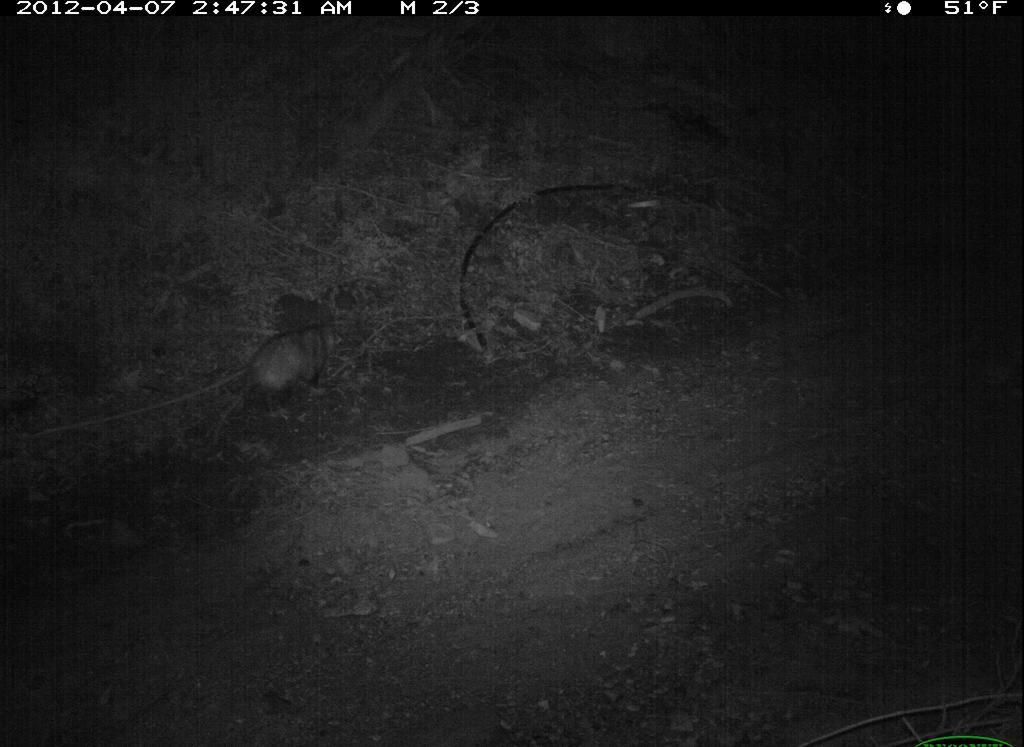opossum: (214, 312, 356, 414)
